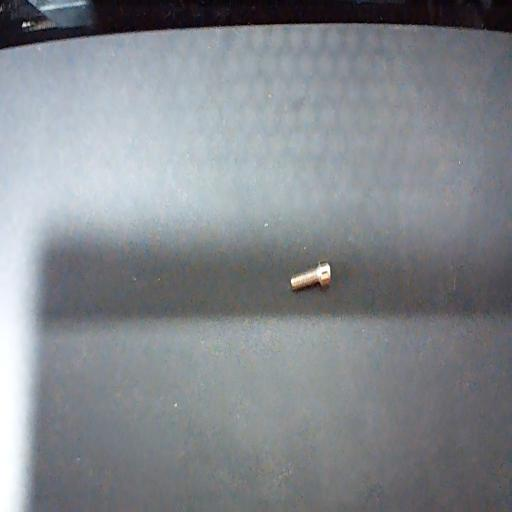screw: (290, 261, 331, 291)
